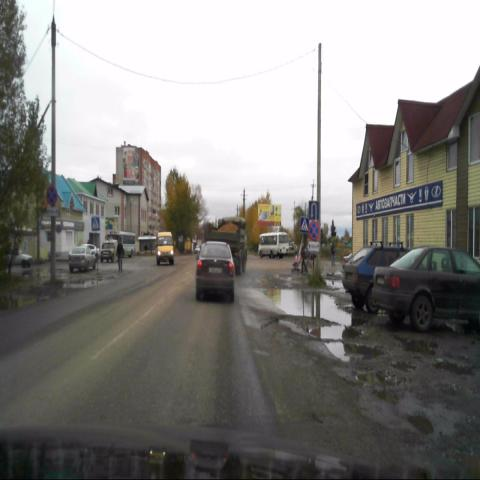3_27: (46, 186, 58, 207), (308, 220, 319, 241)
5_19_1: (300, 217, 309, 233), (91, 216, 100, 231)
6_3_1: (309, 200, 319, 219)
